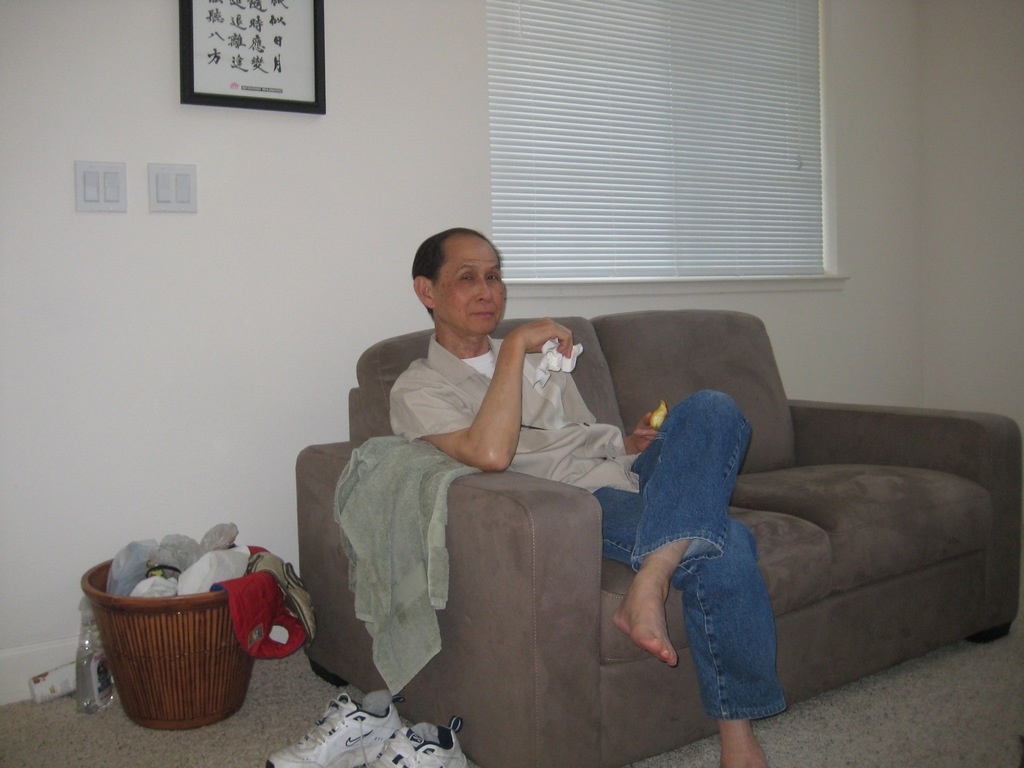Human_hand: (524, 316, 573, 353), (632, 410, 659, 449)
